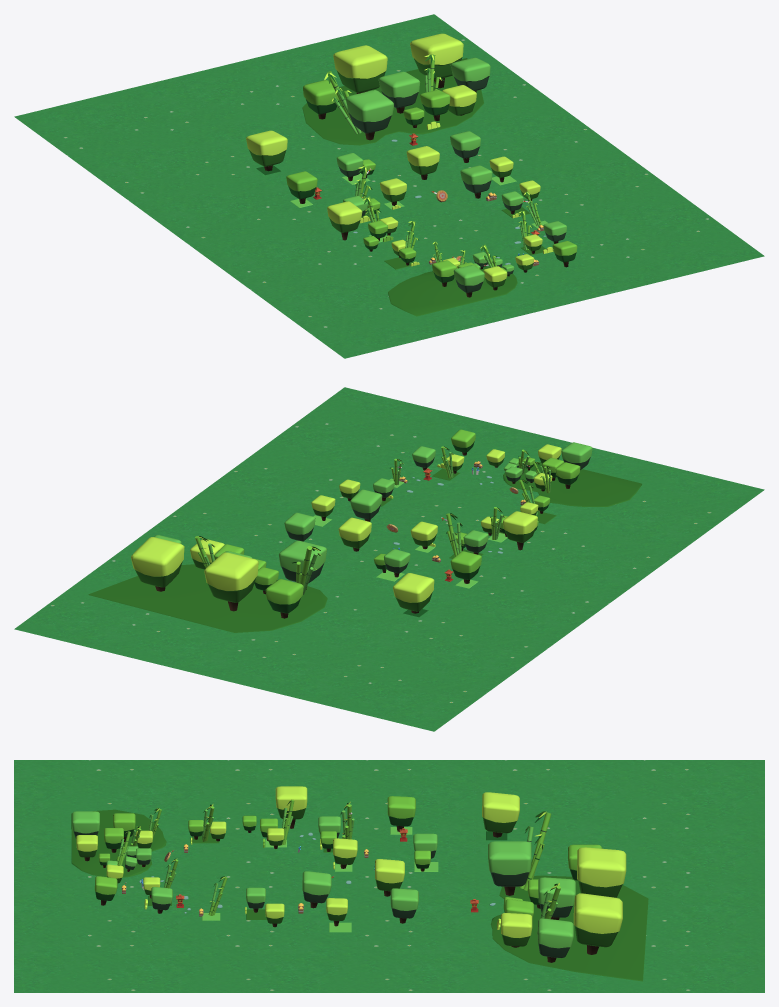
File: Map_theme02_01.fbx
3 renders of one model, top to bottom at view 1: azimuth 30°, elevation 25°; view 2: azimuth 150°, elevation 25°; view 3: azimuth 270°, elevation 25°, orthographic. The views are drawn at different scales.
Parts seen in each view (by area): view 1: Map_theme02_01; view 2: Map_theme02_01; view 3: Map_theme02_01.
Part boxes in pixels (left/top/right/bottom): Map_theme02_01: left=14, top=14, right=764, bottom=358; Map_theme02_01: left=14, top=387, right=764, bottom=731; Map_theme02_01: left=14, top=760, right=764, bottom=992.
Bounding box in the file's own units: 32.75 × 5.98 × 44.64.
